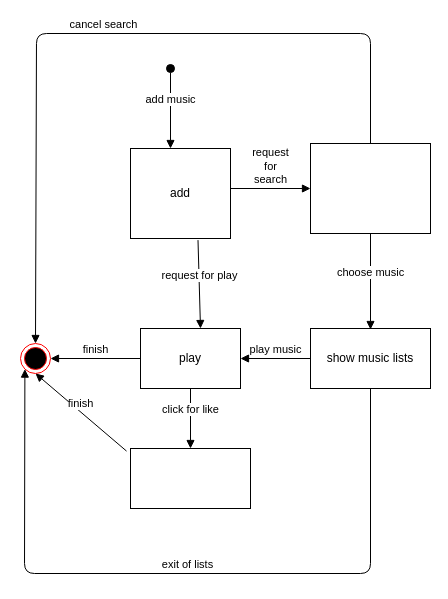
Image size: 448x599. Some labels were removed from this diagram. The box of each missing label's shape, as (x1, y1, x2, y2) in pixels:
like: (130, 448, 250, 508)
search: (310, 142, 430, 234)
